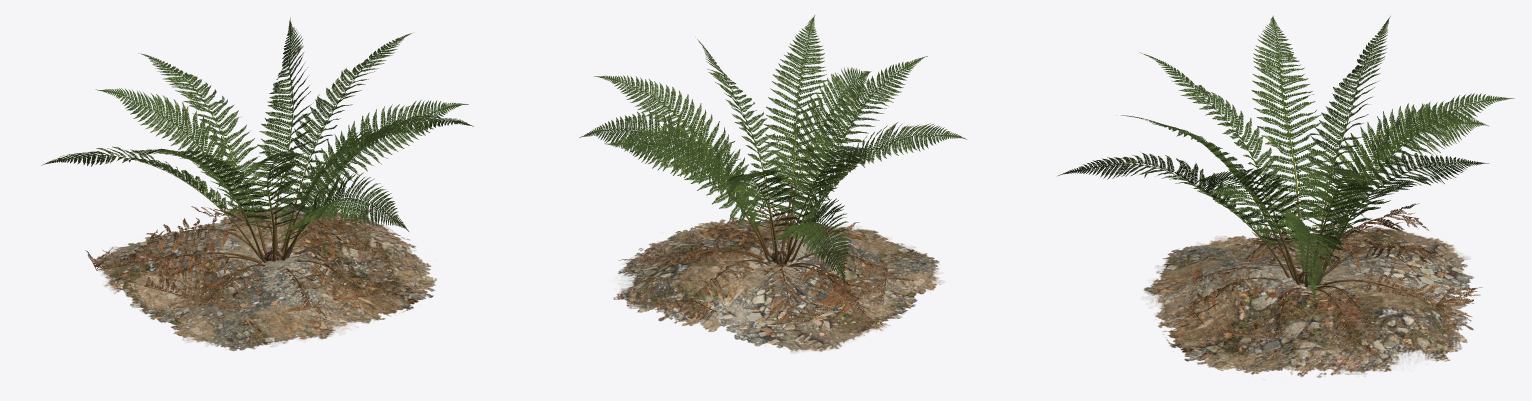
The model's file is FelceMaschio.glb.
The picture shows the model from 3 angles, left to right: view 1: azimuth 30°, elevation 25°; view 2: azimuth 150°, elevation 25°; view 3: azimuth 270°, elevation 25°; orthographic projection. The views are drawn at different scales.
Parts seen in each view (by area): view 1: Terrain, Foglie2, FoglieSecche, Rami, RamiSecchi; view 2: Foglie2, Terrain, FoglieSecche, Rami, RamiSecchi; view 3: Terrain, Foglie2, FoglieSecche, Rami, RamiSecchi.
Part boxes in pixels (x1=…): Terrain: x1=94, y1=205, x2=436, y2=351; Foglie2: x1=41, y1=18, x2=473, y2=243; FoglieSecche: x1=85, y1=203, x2=416, y2=317; Rami: x1=97, y1=56, x2=427, y2=262; RamiSecchi: x1=92, y1=215, x2=394, y2=307; Foglie2: x1=579, y1=15, x2=966, y2=286; Terrain: x1=613, y1=217, x2=944, y2=353; FoglieSecche: x1=618, y1=206, x2=913, y2=332; Rami: x1=626, y1=55, x2=914, y2=265; RamiSecchi: x1=650, y1=216, x2=886, y2=332; Terrain: x1=1143, y1=226, x2=1474, y2=377; Foglie2: x1=1058, y1=15, x2=1514, y2=303; FoglieSecche: x1=1161, y1=203, x2=1482, y2=361; Rami: x1=1121, y1=49, x2=1452, y2=287; RamiSecchi: x1=1190, y1=215, x2=1450, y2=346.
Size of the model in its own units: 5.64 by 2.8 by 5.36.
6 materials, 6 textured.
